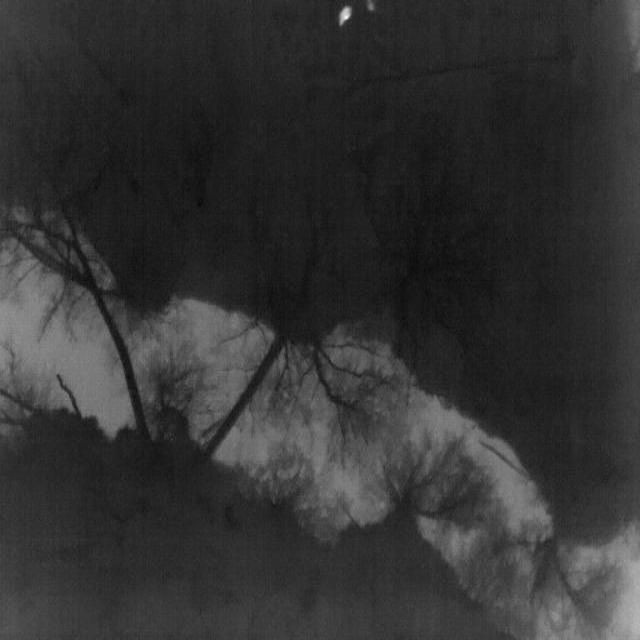deer: (339, 6, 352, 26), (366, 0, 374, 11)
